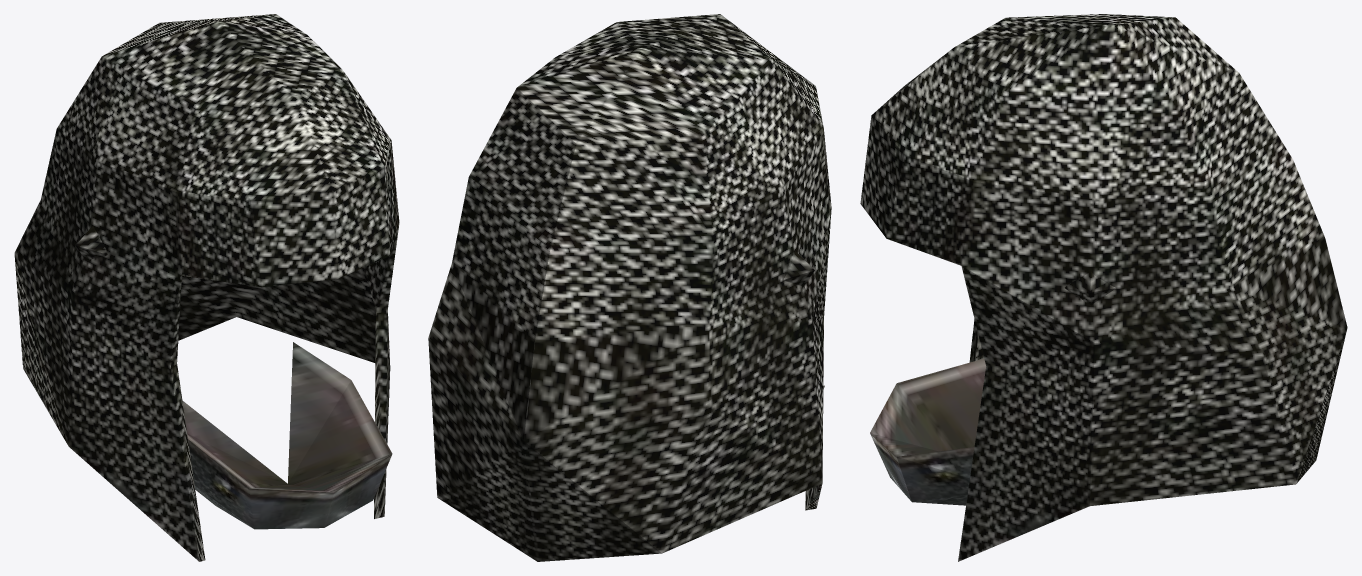
File: ORE_HELM.glb
3 renders of one model, left to right at view 1: azimuth 30°, elevation 25°; view 2: azimuth 150°, elevation 25°; view 3: azimuth 270°, elevation 25°, orthographic. The views are drawn at different scales.
Visible parts, largest first — view 1: ORE_HELM; view 2: ORE_HELM; view 3: ORE_HELM.
Part boxes in pixels (x1=…): ORE_HELM: x1=14, y1=14, x2=399, y2=561; ORE_HELM: x1=428, y1=14, x2=831, y2=561; ORE_HELM: x1=860, y1=14, x2=1347, y2=561.
Size of the model in its own units: 0.2492 by 0.3449 by 0.3099.
1 material, 1 textured.
